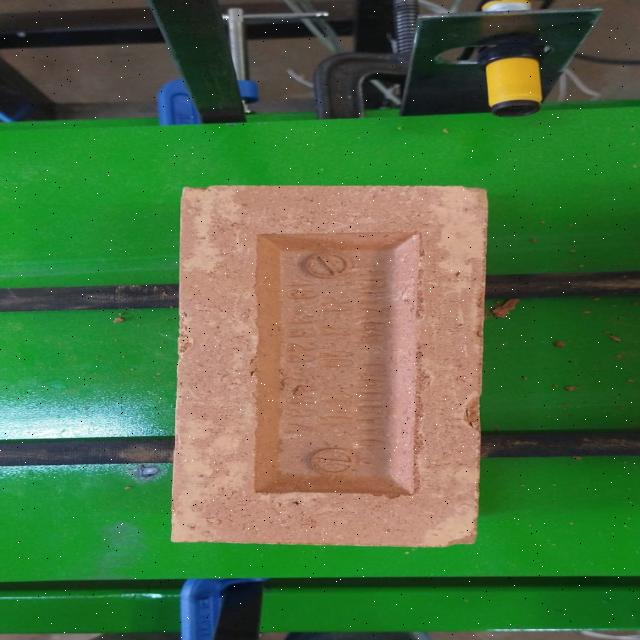bricks: (169, 185, 483, 543)
